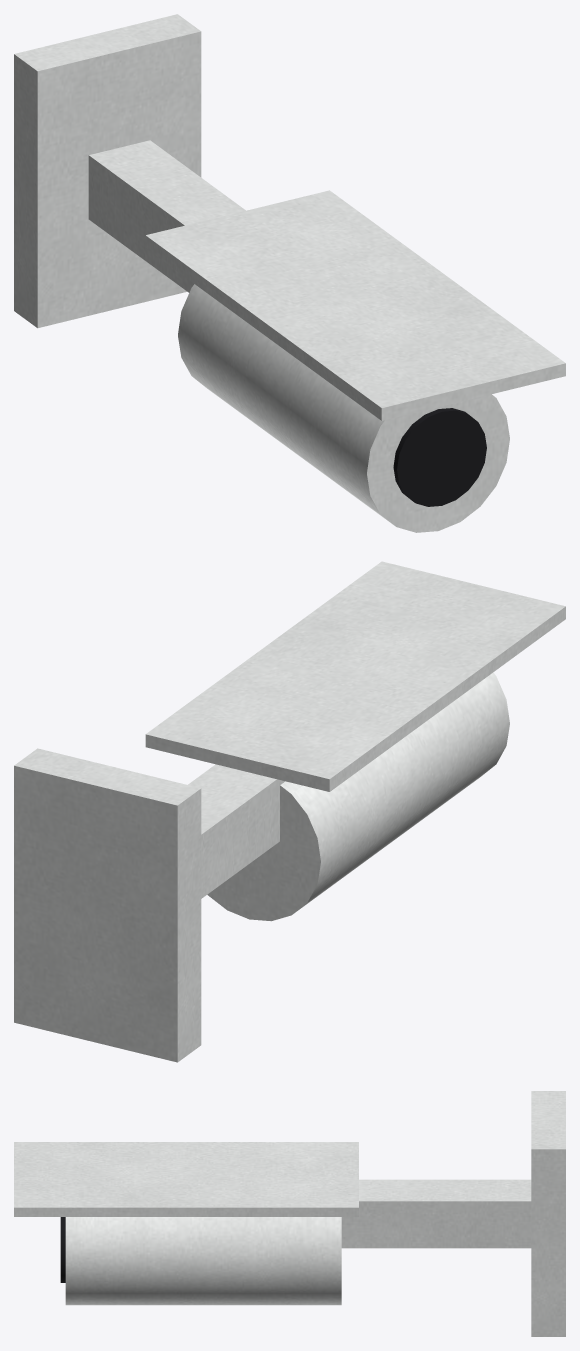
File: C21e_CCTV_Camera.fbx
3 views of the same model, one above another, from view 1: azimuth 30°, elevation 25°; view 2: azimuth 150°, elevation 25°; view 3: azimuth 270°, elevation 25° (orthographic). The views are drawn at different scales.
Visible parts, largest first — view 1: Sunshield, Wall_Plate, Housing, Arm, Lens; view 2: Wall_Plate, Sunshield, Housing, Arm; view 3: Sunshield, Housing, Arm, Wall_Plate, Lens.
Boxes of the visible parts, x1,y1,x2,y2 form: Sunshield: (145, 190, 565, 420); Wall_Plate: (14, 14, 201, 328); Housing: (178, 284, 509, 532); Arm: (88, 140, 245, 292); Lens: (393, 408, 486, 506); Wall_Plate: (14, 748, 201, 1062); Sunshield: (145, 561, 565, 791); Housing: (207, 672, 509, 921); Arm: (188, 764, 284, 898); Sunshield: (14, 1142, 358, 1216); Housing: (65, 1217, 341, 1305); Arm: (341, 1179, 531, 1248); Wall_Plate: (531, 1091, 565, 1336); Lens: (60, 1217, 65, 1282).
Bounding box in the file's own units: 0.09 × 0.12 × 0.32.
Materials: 2 (1 with a texture image).
